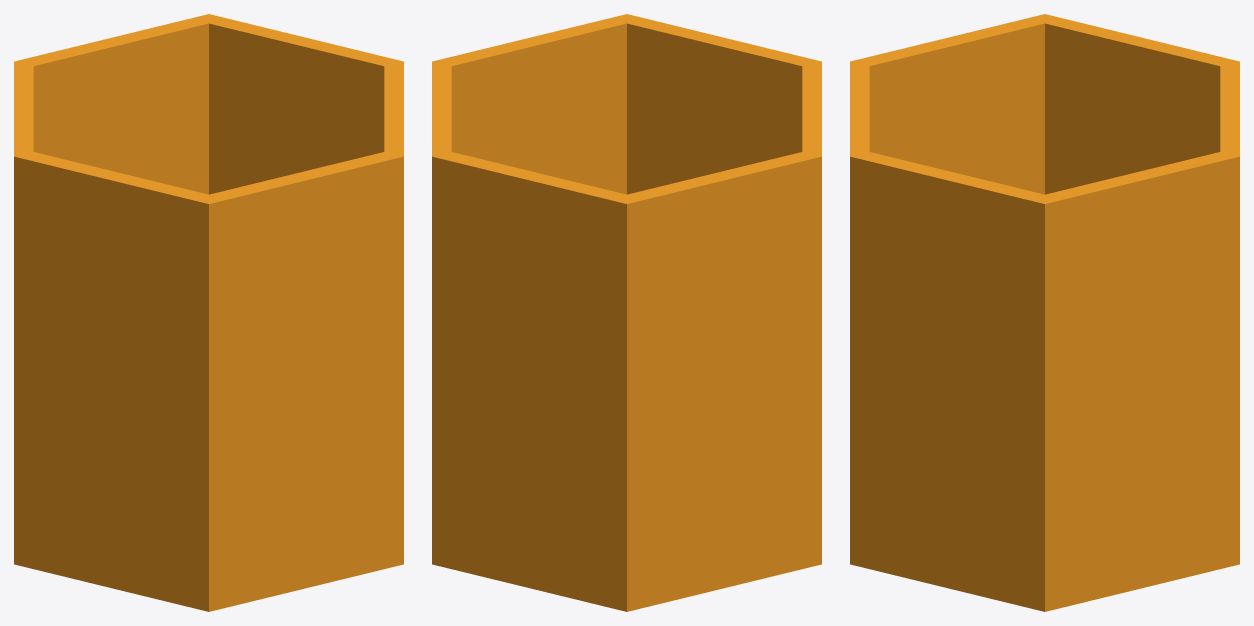
3 renders of one model, left to right at view 1: azimuth 30°, elevation 25°; view 2: azimuth 150°, elevation 25°; view 3: azimuth 270°, elevation 25°, orthographic.
Parts seen in each view (by area): view 1: SM_Primitive_Tube_01; view 2: SM_Primitive_Tube_01; view 3: SM_Primitive_Tube_01.
Part boxes in pixels (bbox=[...]): SM_Primitive_Tube_01: bbox=[14, 14, 403, 611]; SM_Primitive_Tube_01: bbox=[432, 14, 821, 611]; SM_Primitive_Tube_01: bbox=[850, 14, 1239, 611].
Size of the model in its own units: 100 by 100 by 86.6.
